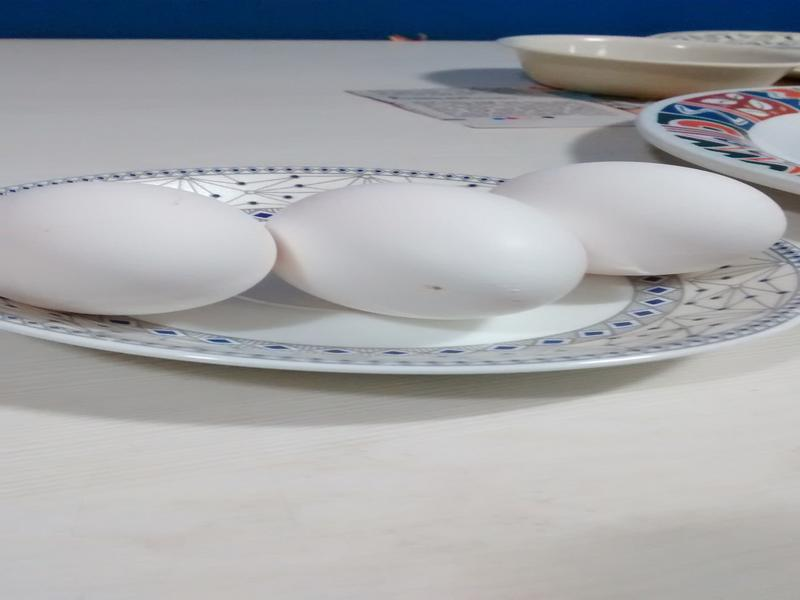egg: (268, 181, 585, 318)
